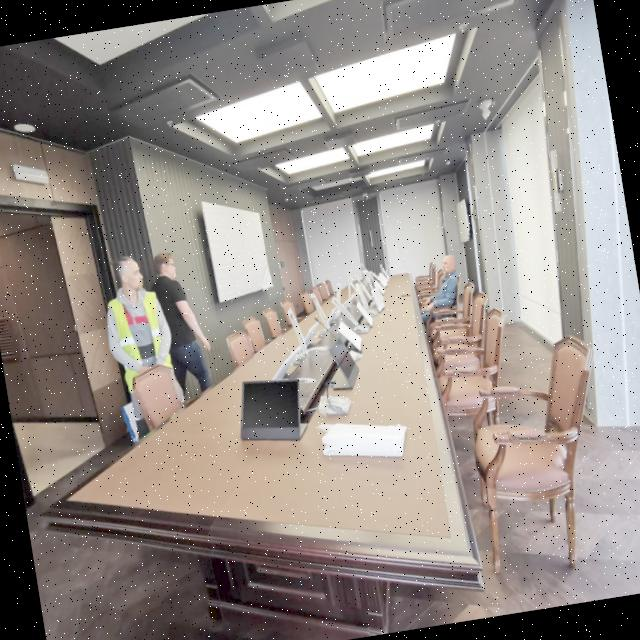NoHelmet: (115, 253, 149, 302), (152, 250, 181, 286), (441, 254, 460, 276)
